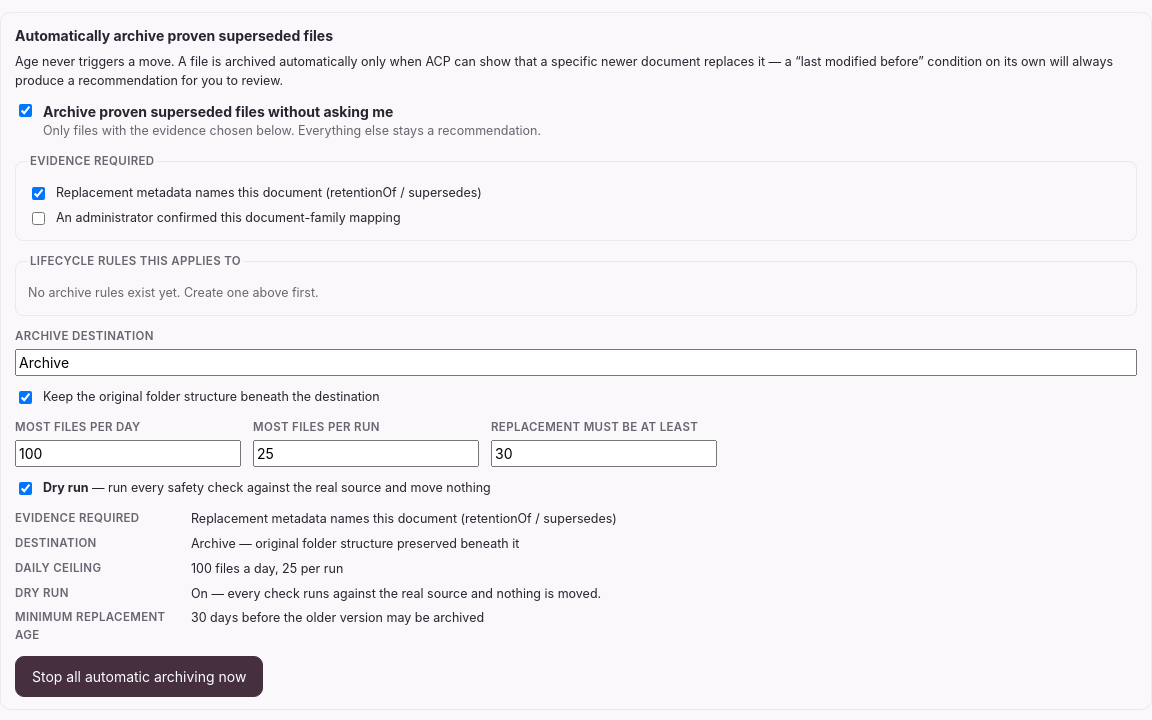
it: the lifecycle rule editor option › surfaces a refused save inline instead of failing silently
Click the 1st checkbox at (26, 110), box [19,104,32,117]
(page scrolled)
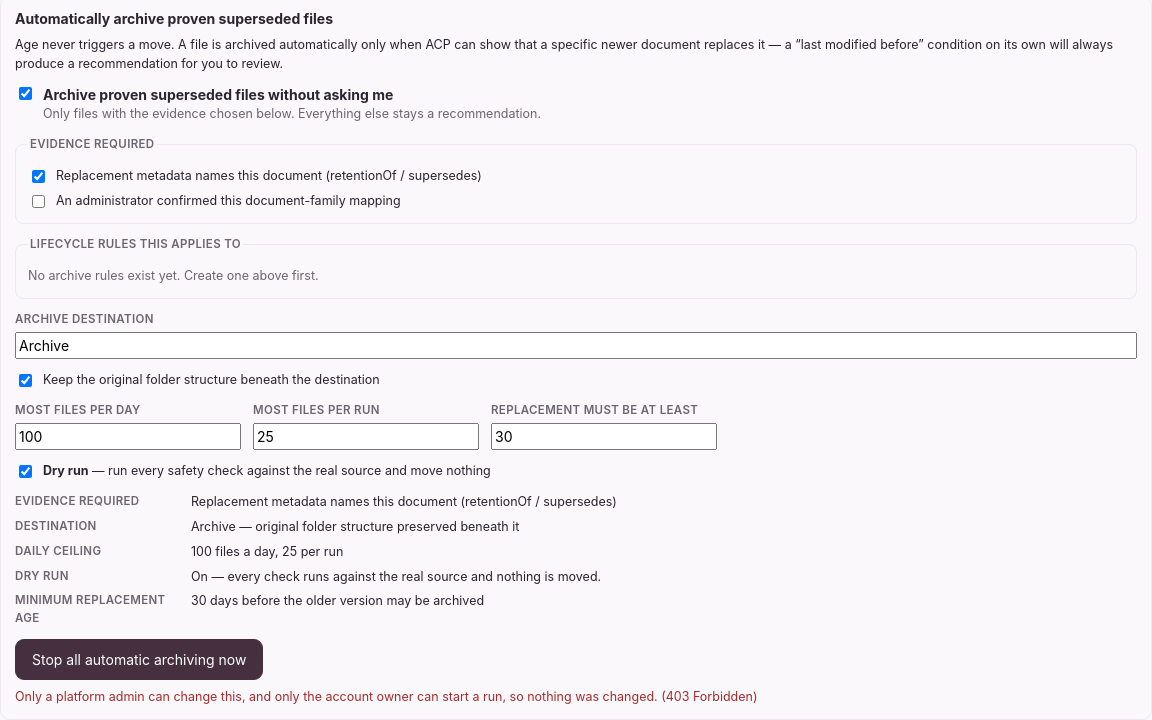
Check: the message shows "platform admin", box [15,689,758,704]
